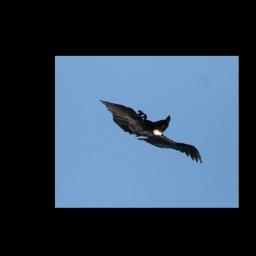Crow: (99, 100, 203, 165)
